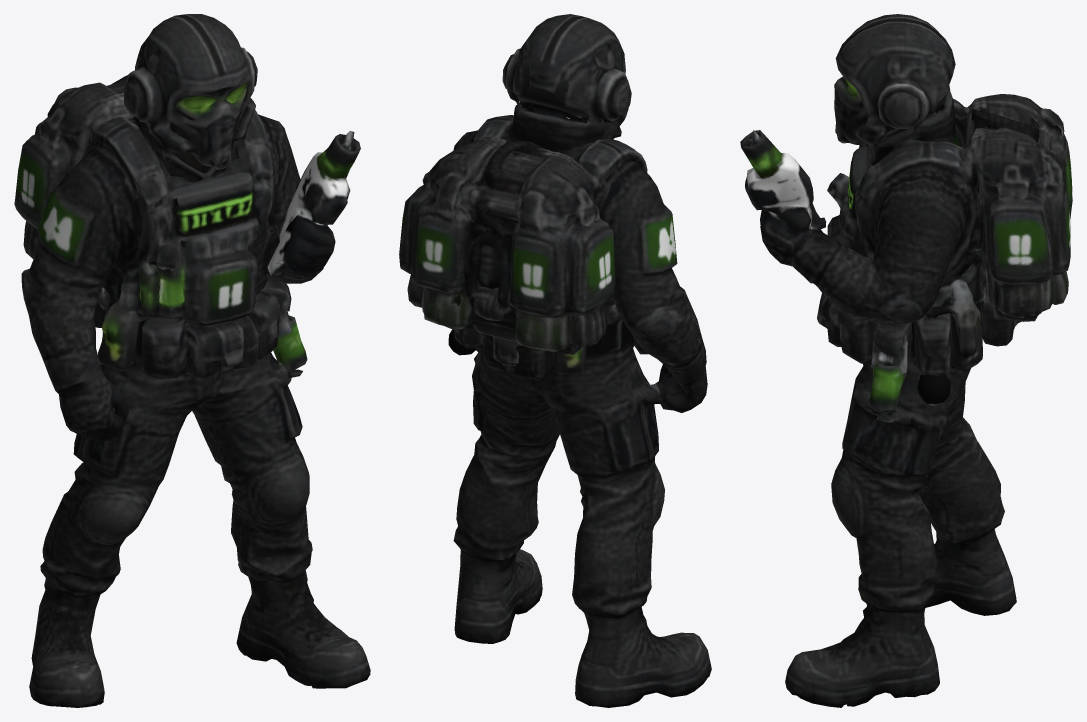
Rendered from medic_l02.glb.
3 views of the same model, side by side, from view 1: azimuth 30°, elevation 25°; view 2: azimuth 150°, elevation 25°; view 3: azimuth 270°, elevation 25° (orthographic). The views are drawn at different scales.
Visible parts, largest first — view 1: world; view 2: world; view 3: world.
Part boxes in pixels (x1,y1,x2,y2): world: [14, 14, 370, 707]; world: [399, 14, 711, 707]; world: [740, 14, 1072, 707].
Size of the model in its own units: 0.448 by 1 by 0.4814.
Materials: 1 (1 with a texture image).
